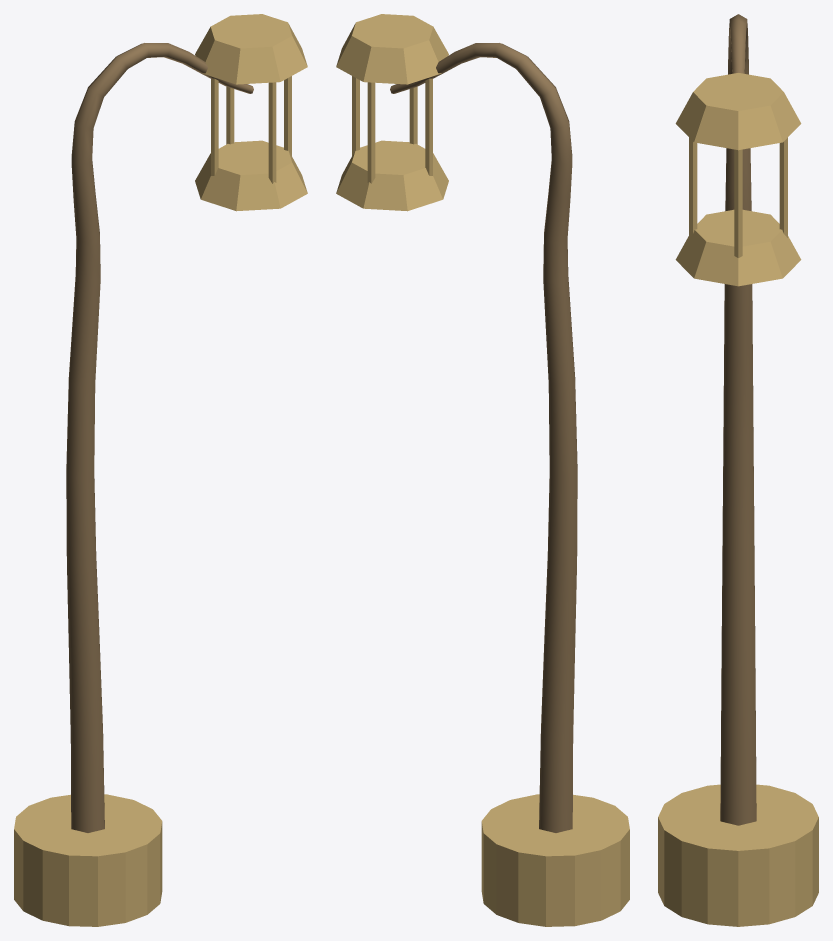
Rendered from kerosene_post.glb.
3 renders of one model, left to right at view 1: azimuth 30°, elevation 25°; view 2: azimuth 150°, elevation 25°; view 3: azimuth 270°, elevation 25°, orthographic. The views are drawn at different scales.
Visible parts, largest first — view 1: Stone lantern foot; view 2: Stone lantern foot; view 3: Stone lantern foot.
Boxes of the visible parts, <box> form: Stone lantern foot: <box>14,14,307,926</box>; Stone lantern foot: <box>336,14,629,926</box>; Stone lantern foot: <box>658,14,818,926</box>.
Size of the model in its own units: 0.99 by 2.85 by 0.46.
